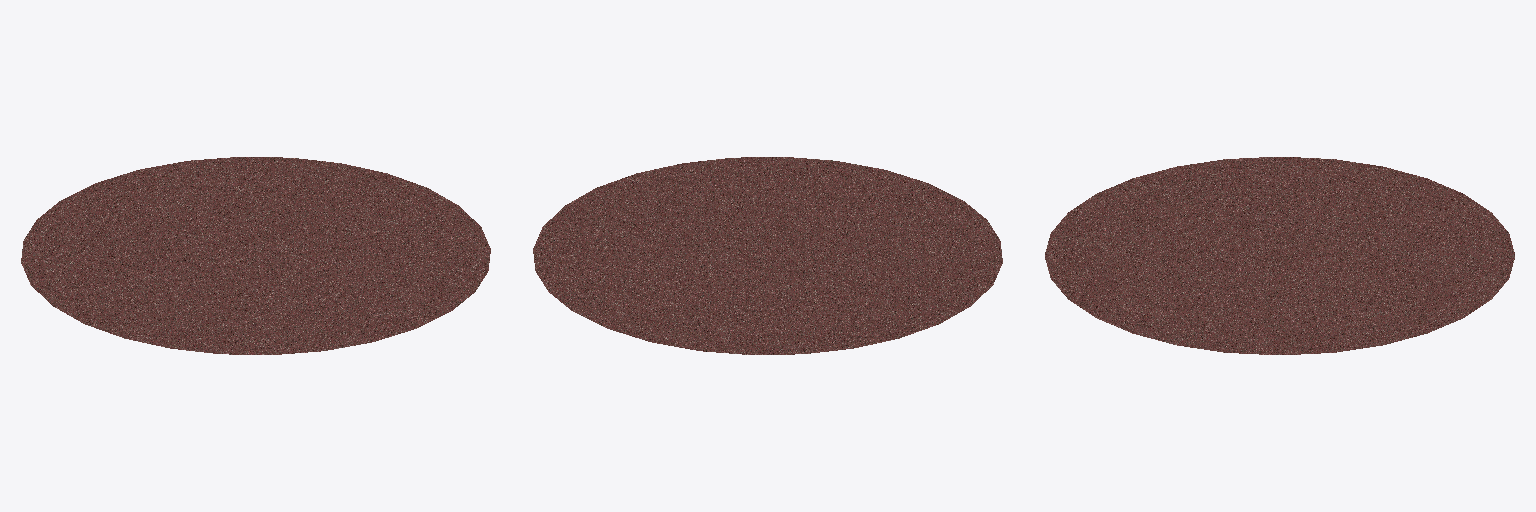
The picture shows the model from 3 angles: view 1: azimuth 30°, elevation 25°; view 2: azimuth 150°, elevation 25°; view 3: azimuth 270°, elevation 25°; orthographic projection.
Visible parts, largest first — view 1: Ground; view 2: Ground; view 3: Ground.
Boxes of the visible parts, <box> form: Ground: <box>21,157,490,354</box>; Ground: <box>533,157,1002,354</box>; Ground: <box>1045,157,1514,354</box>.
Bounding box in the file's own units: 2000 × 0 × 2000.
1 materials, 1 textured.